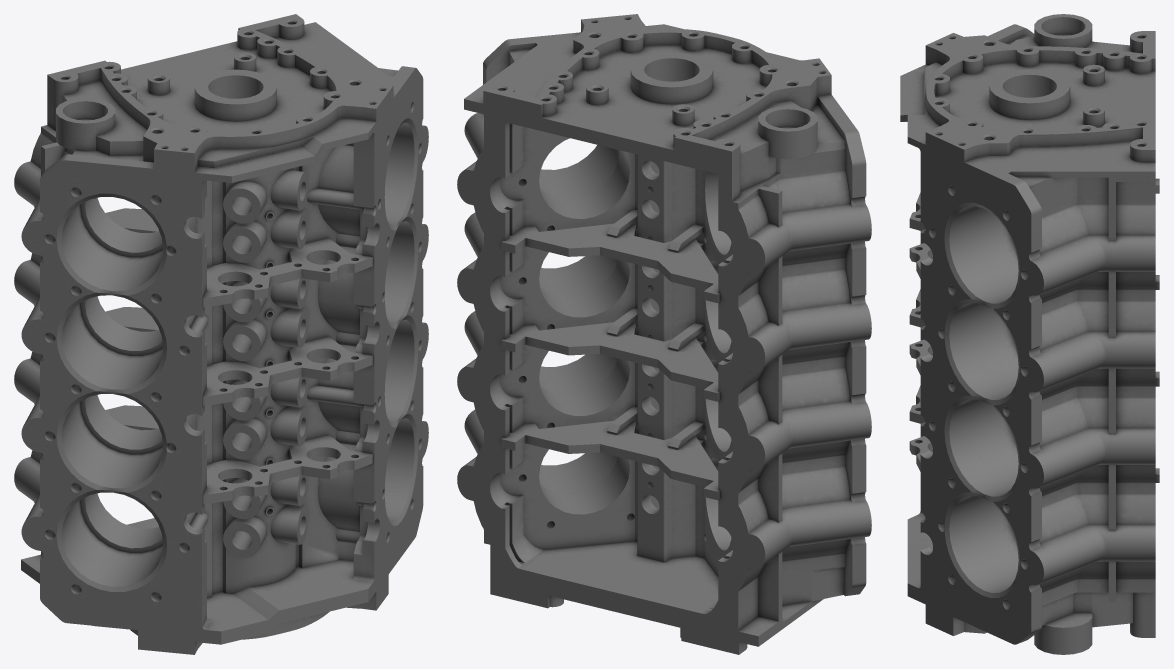
File: v8_engine_block.glb
The picture shows the model from 3 angles, left to right: view 1: azimuth 30°, elevation 25°; view 2: azimuth 150°, elevation 25°; view 3: azimuth 270°, elevation 25°; orthographic projection. The views are drawn at different scales.
Visible parts, largest first — view 1: Object_6, Object_3, Object_4, Object_5, Object_2; view 2: Object_3, Object_6, Object_4, Object_2, Object_5; view 3: Object_5, Object_3, Object_4, Object_6, Object_2.
Boxes of the visible parts, box(x1,y1,x2,y2) form: Object_6: box(21, 43, 428, 654); Object_3: box(24, 14, 414, 644); Object_4: box(14, 19, 421, 654); Object_5: box(41, 21, 425, 644); Object_2: box(21, 22, 393, 637); Object_3: box(483, 14, 871, 646); Object_6: box(457, 43, 832, 631); Object_4: box(463, 16, 866, 654); Object_2: box(464, 39, 852, 646); Object_5: box(464, 24, 866, 654); Object_5: box(900, 24, 1155, 635); Object_3: box(907, 17, 1155, 621); Object_4: box(908, 29, 1155, 654); Object_6: box(907, 71, 1155, 644); Object_2: box(900, 14, 1159, 635).
Size of the model in its own units: 41.57 by 49.76 by 23.43.
Materials: 1 (1 with a texture image).
